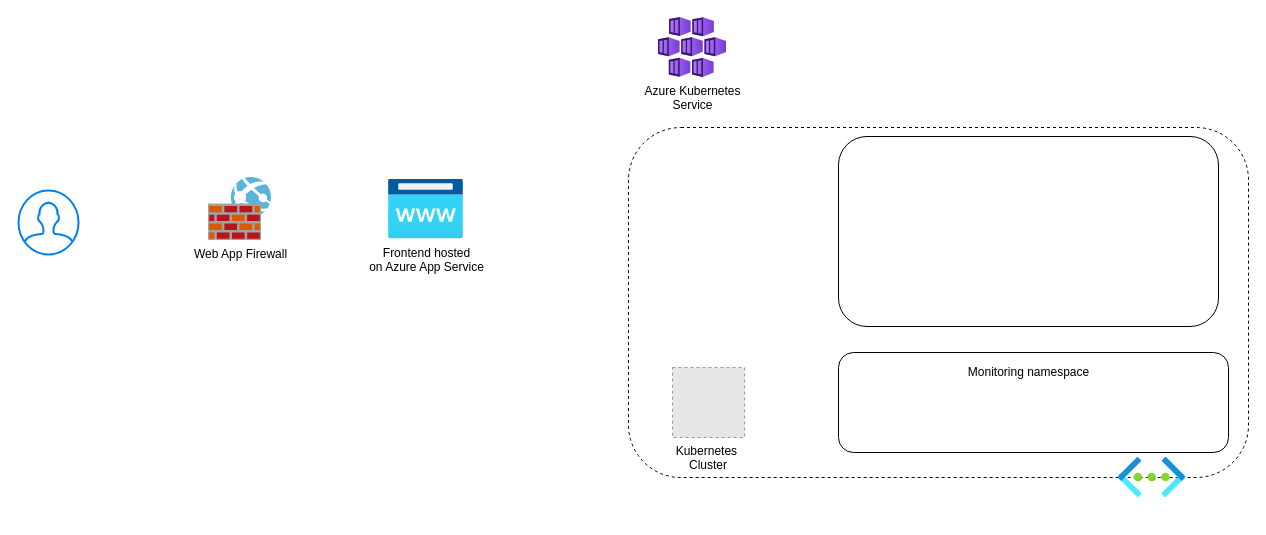
Image size: 1266x535. Some labels were removed from this diagram. Grey dashed boxes stand in for pictures. The shapes that lost their labels are listed below. From the top down, each one's centre as x and y in pixels, then its label:
(x=1028, y=231): Backend Services namespaces
(x=1151, y=477): VNET
